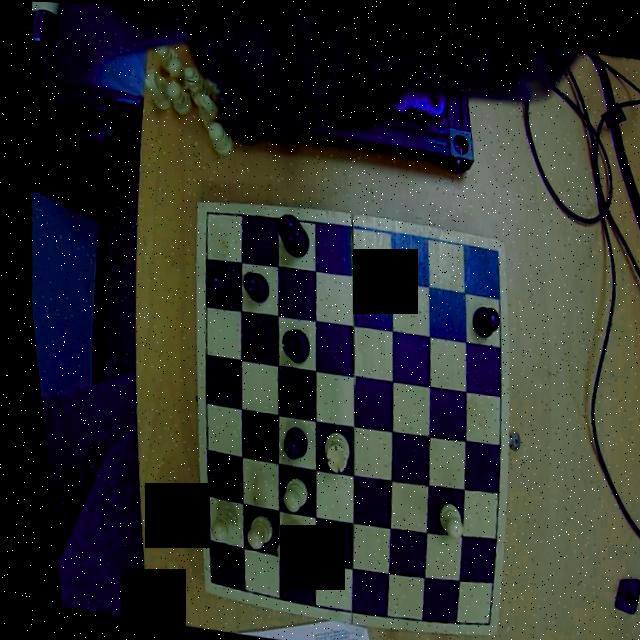chess-table-corners: (476, 236, 501, 264), (193, 199, 218, 224), (190, 563, 209, 593), (460, 608, 482, 632)
